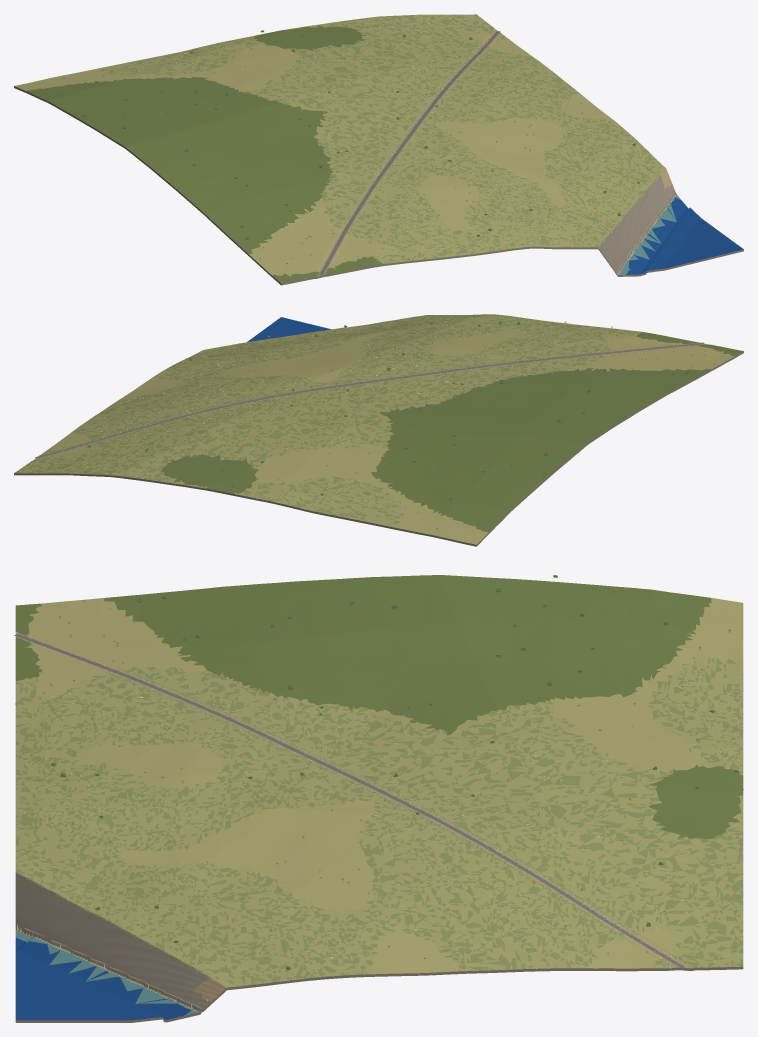
Rendered from parca_+13_-5-yakin.glb.
The picture shows the model from 3 angles, top to bottom: view 1: azimuth 30°, elevation 25°; view 2: azimuth 150°, elevation 25°; view 3: azimuth 270°, elevation 25°; orthographic projection. The views are drawn at different scales.
Visible parts, largest first — view 1: parca_+13_-5_arazi, parca_+13_-5_yollar, parca_+13_-5_bitkiler; view 2: parca_+13_-5_arazi, parca_+13_-5_yollar, parca_+13_-5_bitkiler; view 3: parca_+13_-5_arazi, parca_+13_-5_yollar, parca_+13_-5_bitkiler.
Part boxes in pixels (box(x1,y1,x2,y2)): parca_+13_-5_arazi: box(14, 14, 743, 285); parca_+13_-5_yollar: box(319, 31, 500, 275); parca_+13_-5_bitkiler: box(62, 17, 652, 264); parca_+13_-5_arazi: box(14, 314, 743, 546); parca_+13_-5_yollar: box(35, 342, 704, 458); parca_+13_-5_bitkiler: box(63, 317, 715, 529); parca_+13_-5_arazi: box(15, 575, 743, 1022); parca_+13_-5_yollar: box(14, 634, 685, 968); parca_+13_-5_bitkiler: box(15, 575, 743, 977).
Size of the model in its own units: 1005 by 214 by 1003.
